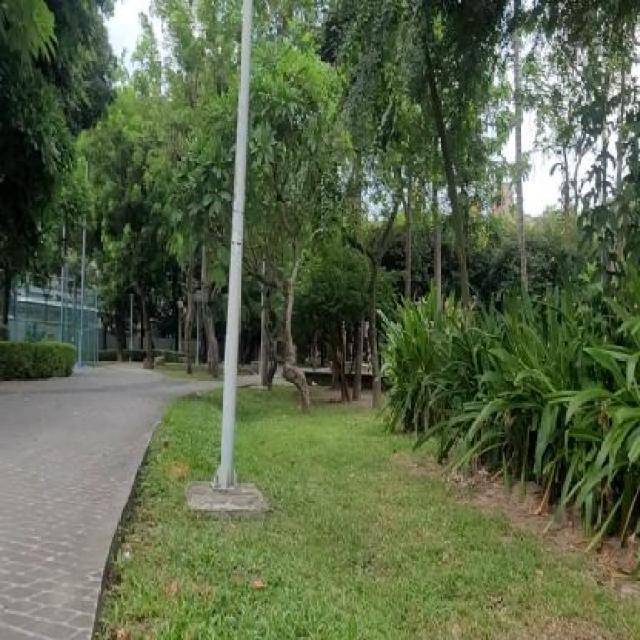lawn: (96, 389, 639, 640)
